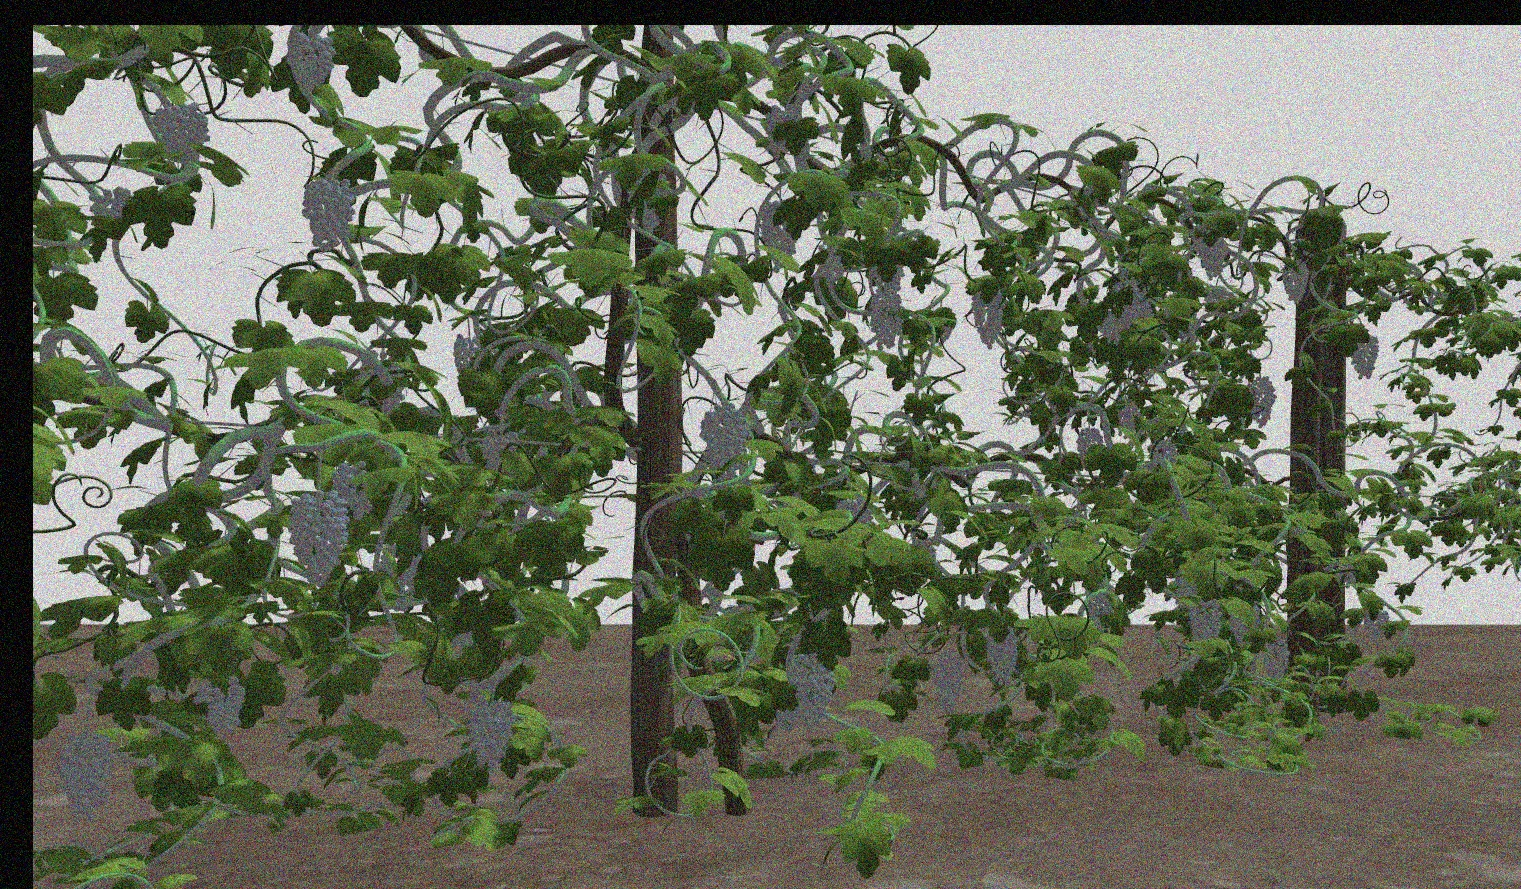grape: (50, 731, 122, 822), (285, 490, 354, 582), (300, 170, 361, 254), (462, 694, 520, 770), (787, 653, 837, 736), (154, 98, 213, 167), (700, 399, 748, 480), (193, 674, 249, 743), (285, 32, 338, 99), (756, 201, 804, 268), (930, 651, 970, 715), (970, 285, 1005, 352), (868, 290, 903, 353), (988, 628, 1019, 686), (1187, 598, 1223, 645), (1194, 234, 1229, 280), (1247, 377, 1277, 429), (1351, 331, 1380, 381), (1281, 259, 1311, 303), (1261, 640, 1290, 683), (1075, 429, 1104, 462), (1363, 607, 1391, 643)
